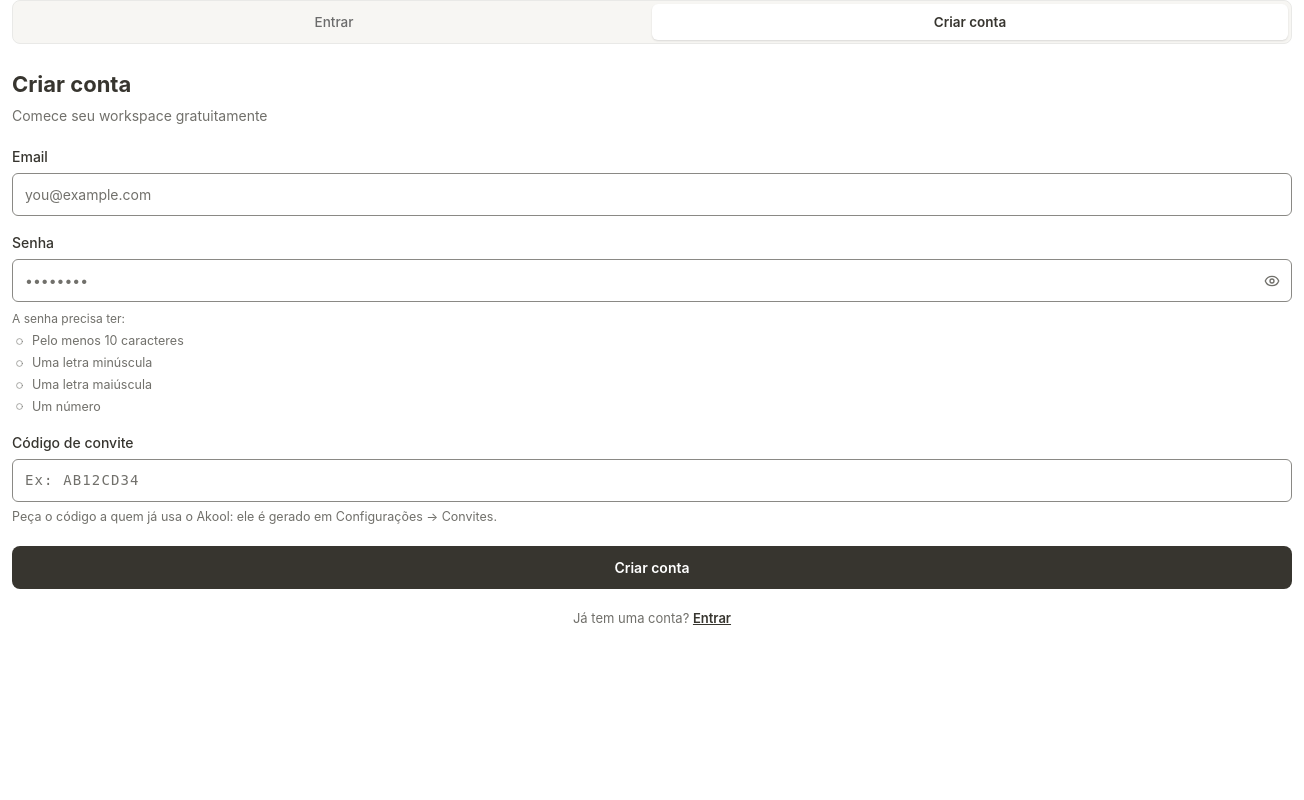
Test: AuthForm: cadastro › convite inválido para antes de criar a conta
The width and height of the screenshot is (1304, 800).
In the field labelled "Email": (652, 195) [12,173,1292,216], type "nova@example.com"
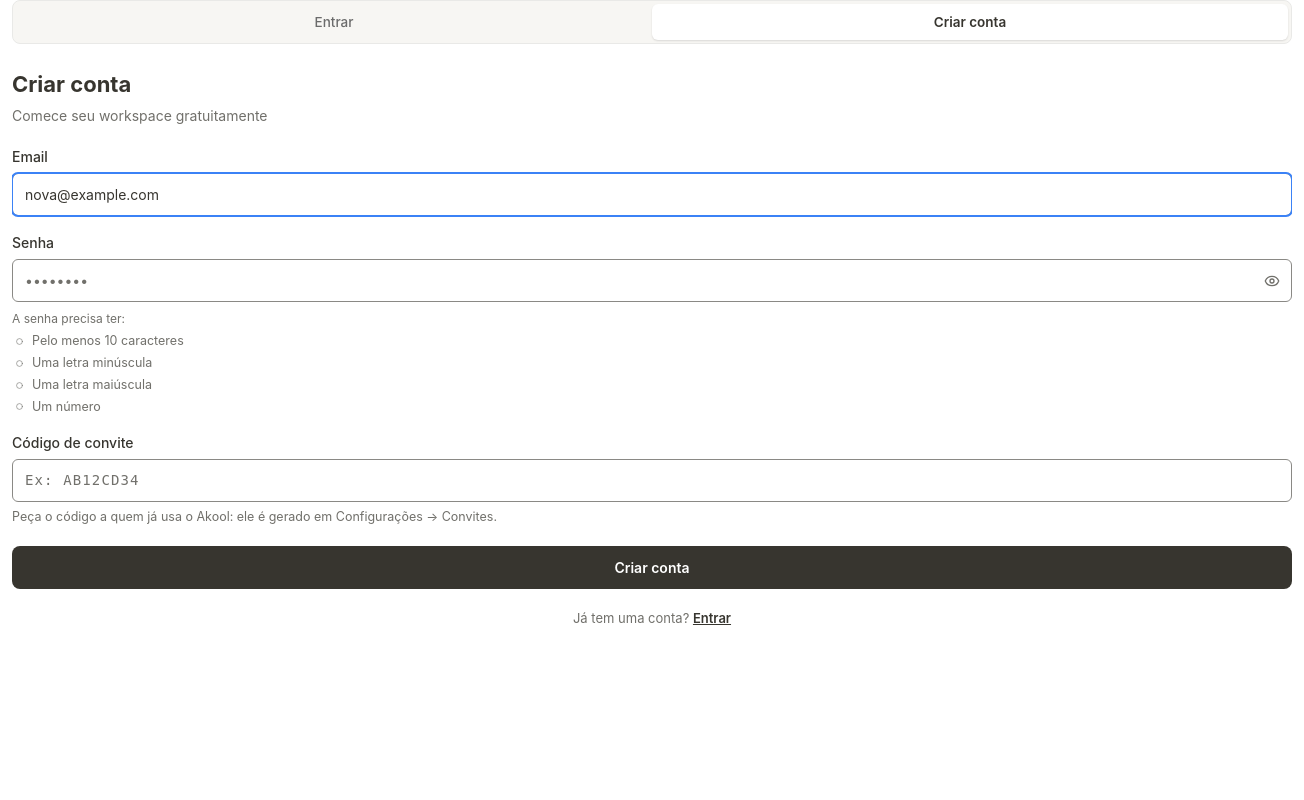
In the password field labelled "Senha": (652, 281) [12,259,1292,302], type "Fict1ciaForte"
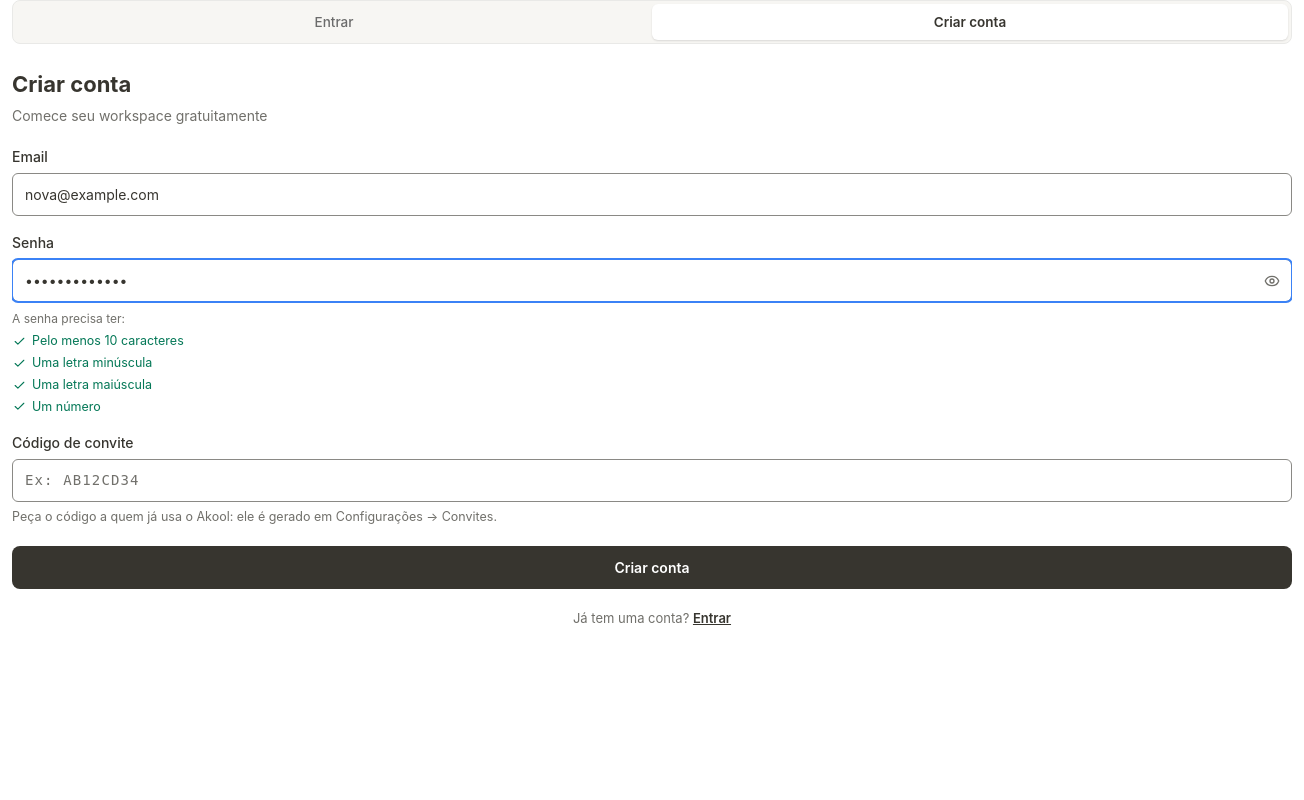
In the field labelled "Código de convite": (652, 481) [12,459,1292,502], type "abc123"
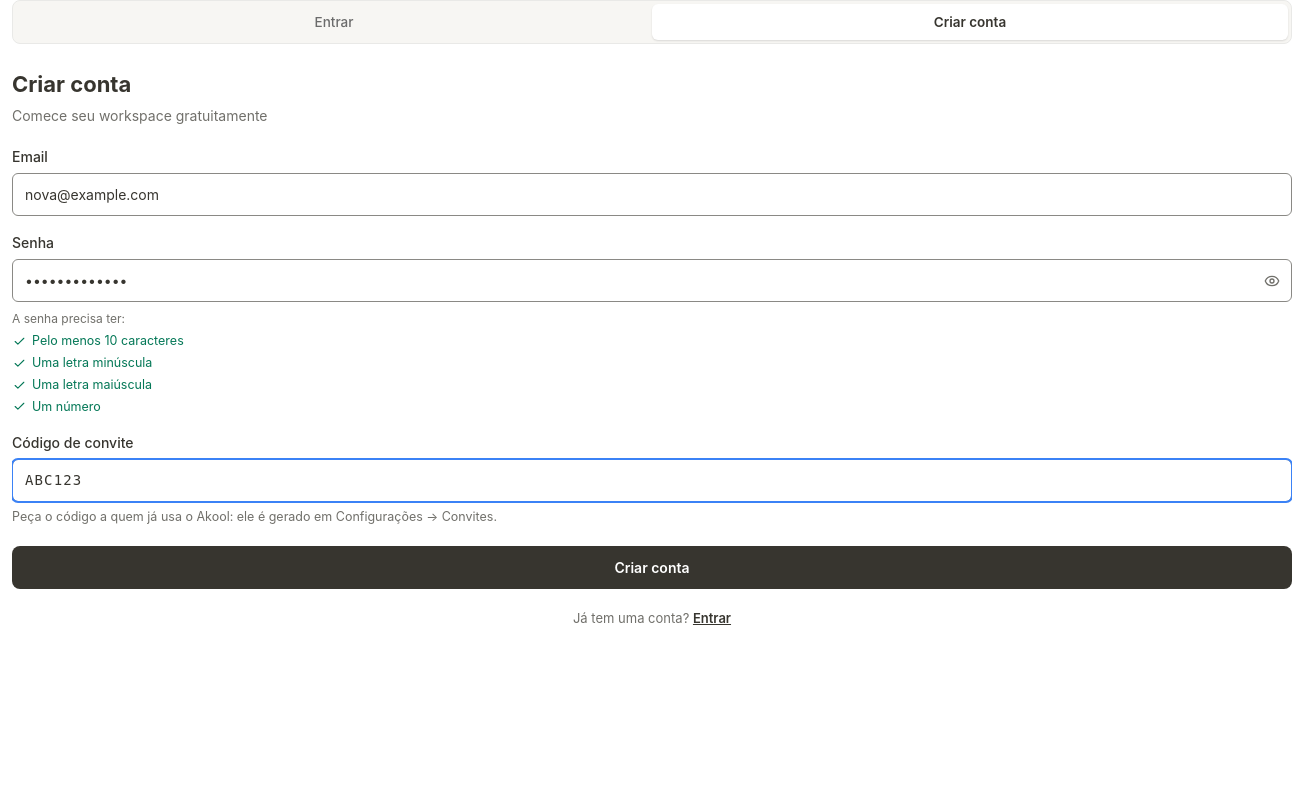
Press Enter
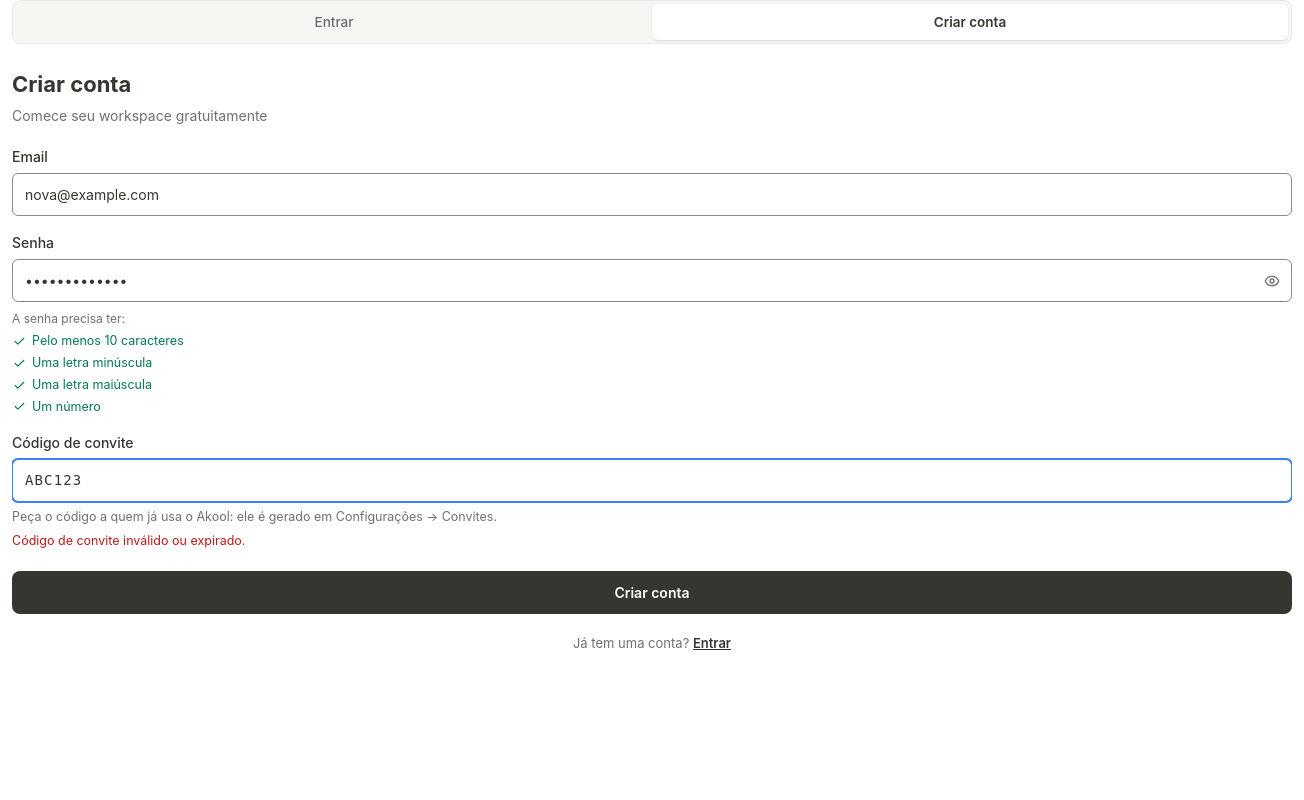
Check: the message reads "Código de convite inválido ou expirado.", box [12,533,245,548]
